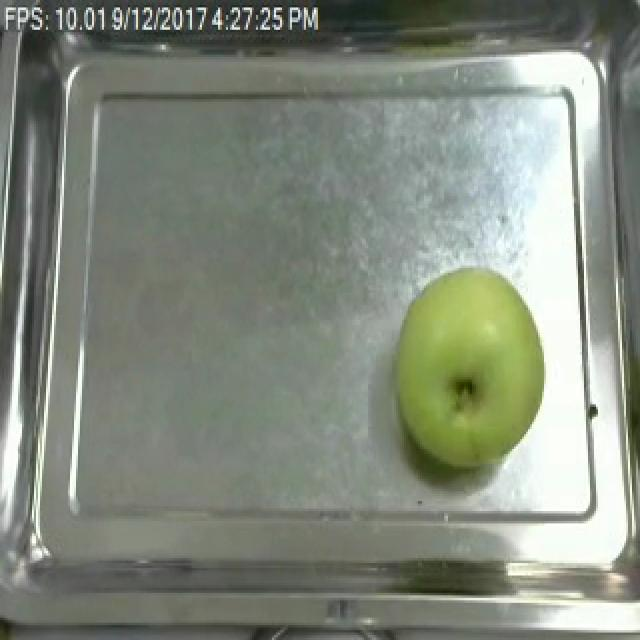50-_ripeness: (404, 245, 555, 490)
